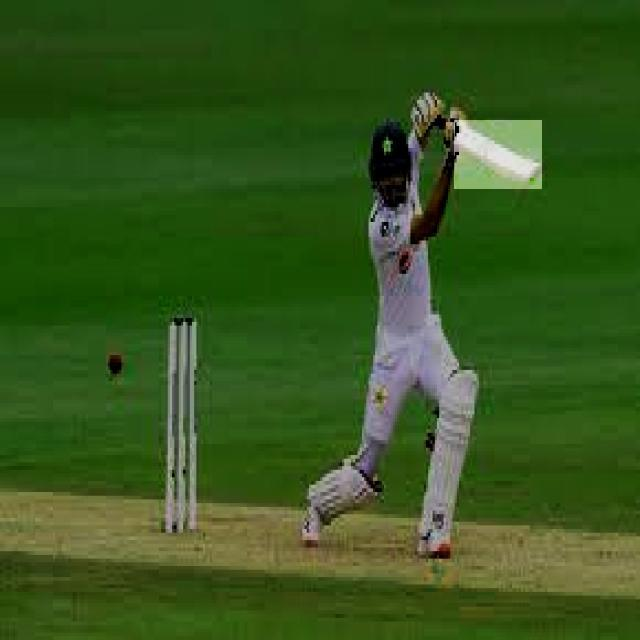bat: (452, 121, 541, 189)
toe: (524, 165, 541, 188)
